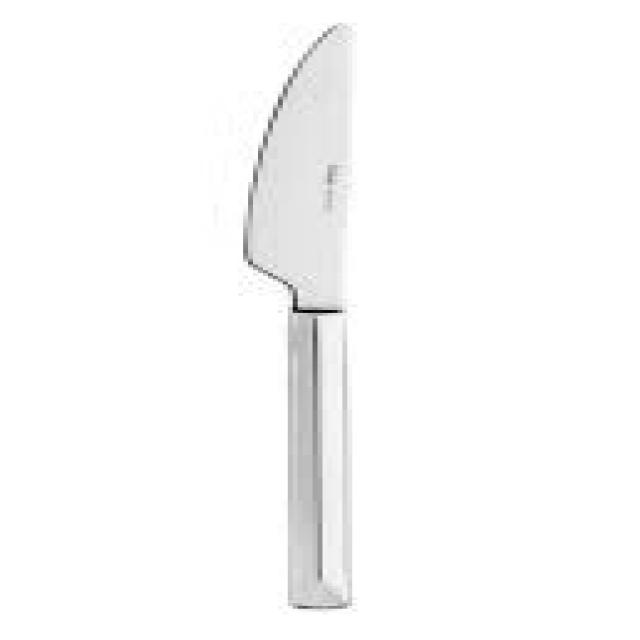knife: (234, 20, 395, 622)
